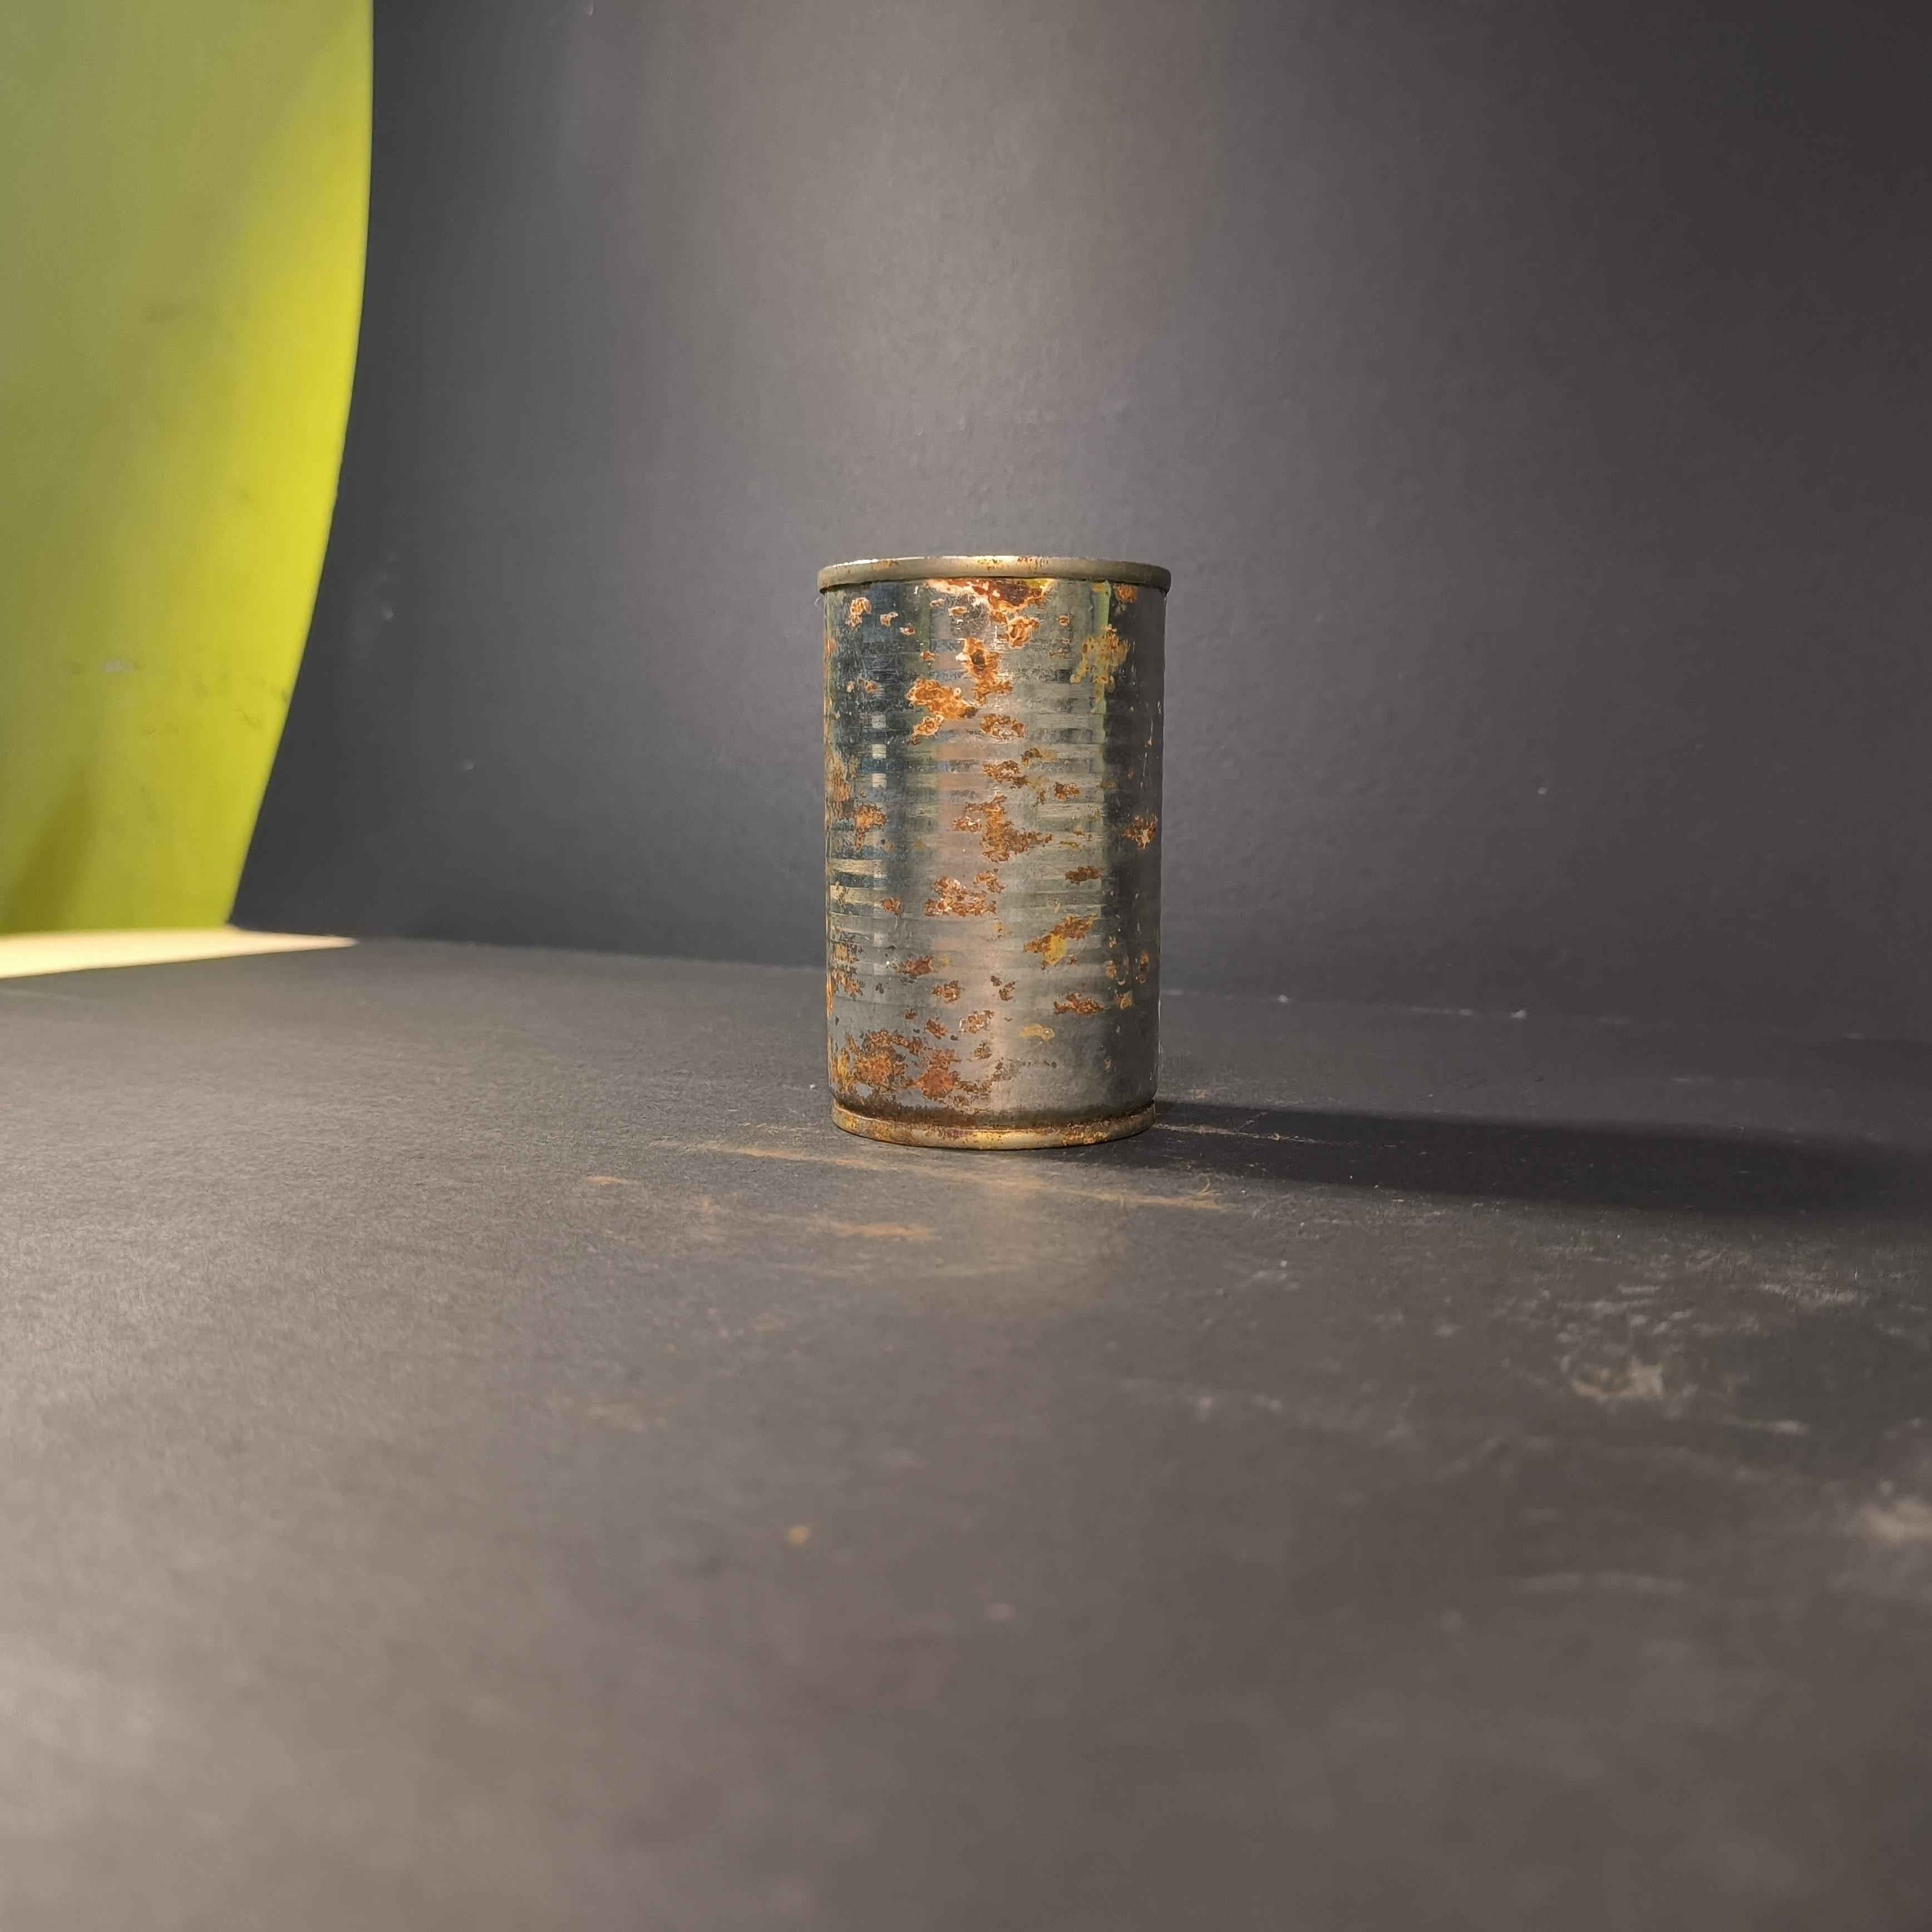Rusted: (801, 531, 1191, 1152)
